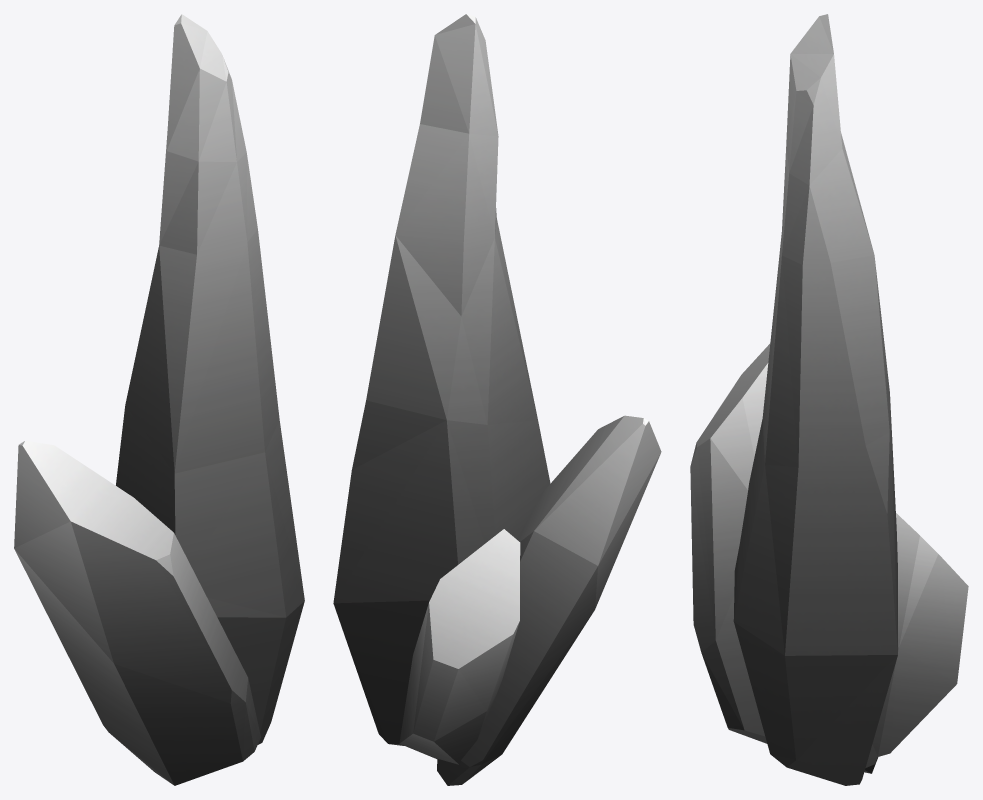
Rendered from CrystalShardCluster_C.fbx.
3 renders of one model, left to right at view 1: azimuth 30°, elevation 25°; view 2: azimuth 150°, elevation 25°; view 3: azimuth 270°, elevation 25°, orthographic.
Visible parts, largest first — view 1: CrystalShardCluster_C; view 2: CrystalShardCluster_C; view 3: CrystalShardCluster_C.
Boxes of the visible parts, bbox=[...] form: CrystalShardCluster_C: bbox=[14, 14, 304, 785]; CrystalShardCluster_C: bbox=[333, 14, 661, 785]; CrystalShardCluster_C: bbox=[690, 14, 968, 785].
Bounding box in the file's own units: 163 × 436 × 144.
1 material, 1 textured.
